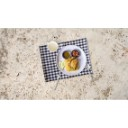briyani: (65, 58, 79, 70)
